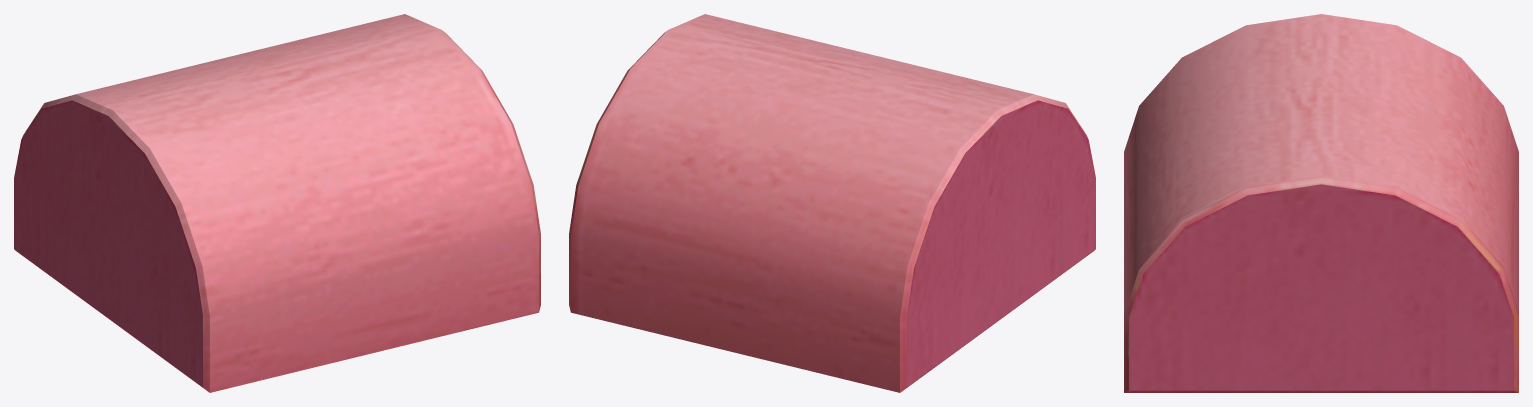
File: Doll_OB_Blocks_011.FBX
3 renders of one model, left to right at view 1: azimuth 30°, elevation 25°; view 2: azimuth 150°, elevation 25°; view 3: azimuth 270°, elevation 25°, orthographic.
Parts seen in each view (by area): view 1: Doll_OB_Blocks_011; view 2: Doll_OB_Blocks_011; view 3: Doll_OB_Blocks_011.
Boxes of the visible parts, x1=… form: Doll_OB_Blocks_011: x1=14, y1=14, x2=540, y2=392; Doll_OB_Blocks_011: x1=569, y1=14, x2=1095, y2=392; Doll_OB_Blocks_011: x1=1124, y1=14, x2=1518, y2=392.
Bounding box in the file's own units: 6.98 × 4.18 × 6.95.
